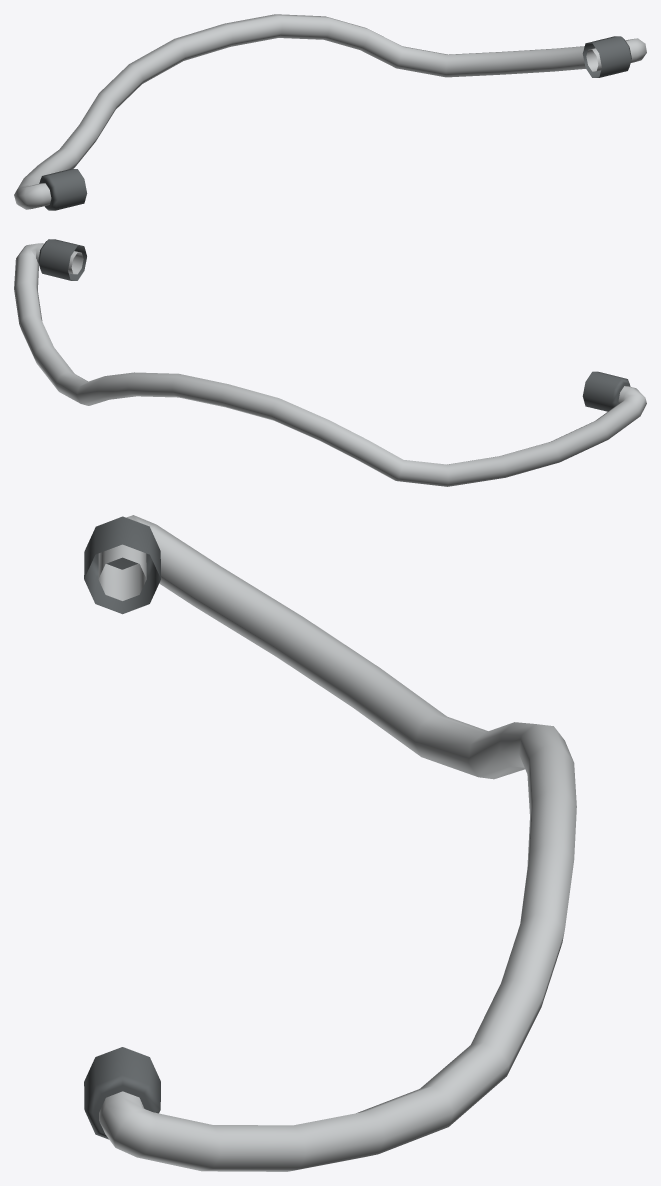
The model's file is Car_15_RearBumper_Simple.fbx.
3 views of the same model, one above another, from view 1: azimuth 30°, elevation 25°; view 2: azimuth 150°, elevation 25°; view 3: azimuth 270°, elevation 25° (orthographic). The views are drawn at different scales.
Parts seen in each view (by area): view 1: Car_15_RearBumper_Simple; view 2: Car_15_RearBumper_Simple; view 3: Car_15_RearBumper_Simple.
Boxes of the visible parts, x1,y1,x2,y2 form: Car_15_RearBumper_Simple: (14, 14, 646, 210); Car_15_RearBumper_Simple: (14, 239, 646, 486); Car_15_RearBumper_Simple: (84, 515, 576, 1171).
Size of the model in its own units: 221 by 75.65 by 26.02.
